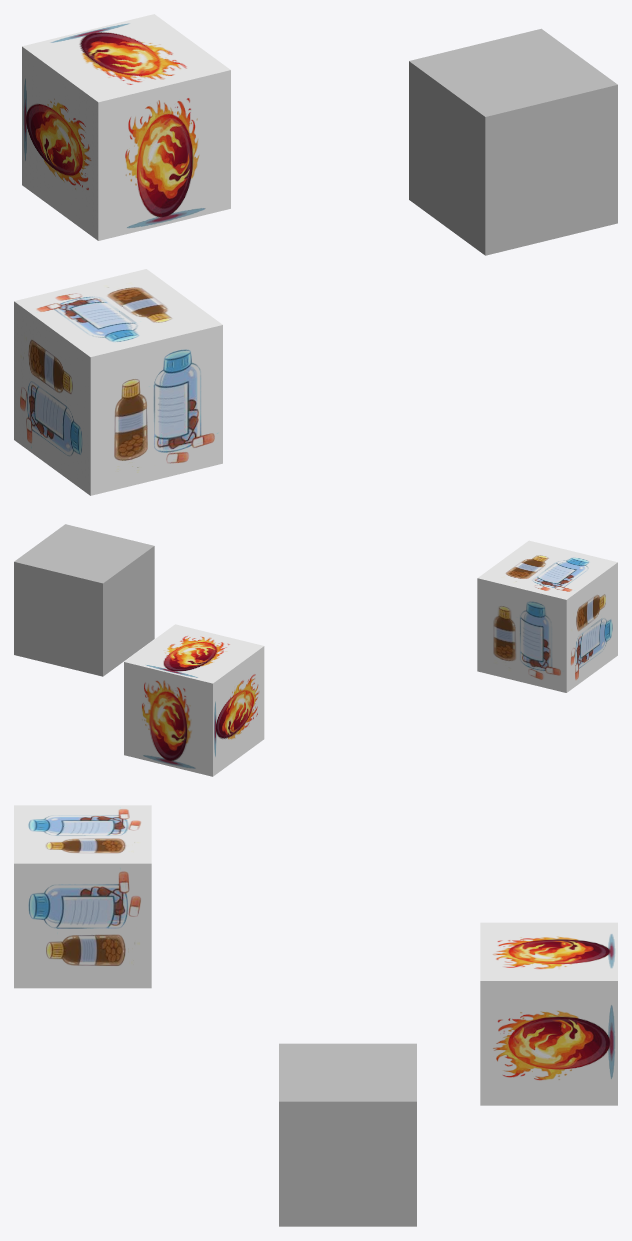
Rendered from kubics.FBX.
3 renders of one model, top to bottom at view 1: azimuth 30°, elevation 25°; view 2: azimuth 150°, elevation 25°; view 3: azimuth 270°, elevation 25°, orthographic. The views are drawn at different scales.
Visible parts, largest first — view 1: stena, ogon, zdorov; view 2: ogon, zdorov, stena; view 3: zdorov, stena, ogon.
Boxes of the visible parts, <box> form: stena: <box>409,28,617,255</box>; ogon: <box>22,14,230,240</box>; zdorov: <box>14,269,222,495</box>; ogon: <box>124,624,264,776</box>; zdorov: <box>477,540,617,692</box>; stena: <box>14,524,154,676</box>; zdorov: <box>14,805,151,988</box>; stena: <box>279,1043,416,1226</box>; ogon: <box>480,922,617,1105</box>.
Size of the model in its own units: 81.35 by 15.98 by 70.09.
